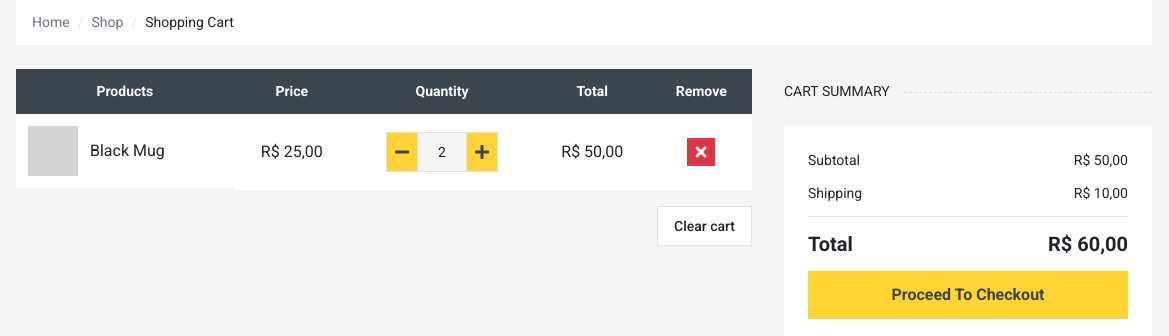
Test: Cart › increases and decreases the quantity of a line through the API
Expected: the text "Black Mug" is shown, [90, 139, 165, 163]
Click the button named "Increase quantity". click: click(482, 152)
box: [466, 132, 498, 172]
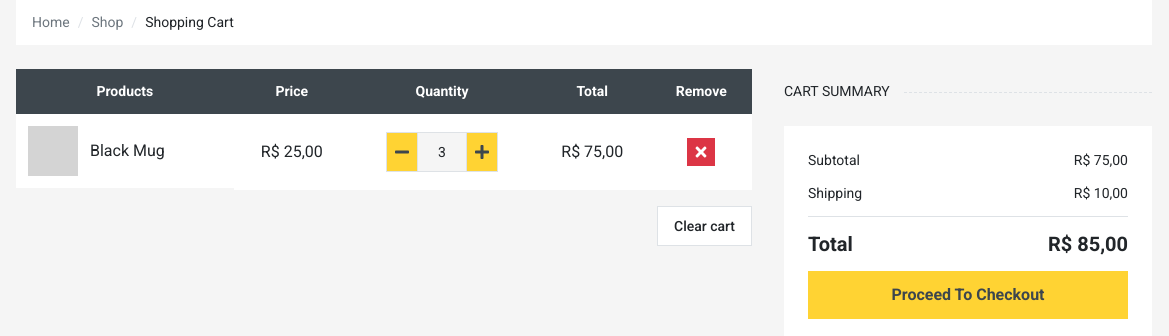
Now the text "R$ 75,00" is shown, box [534, 114, 650, 192]
Click the button named "Decrease quantity". click: click(402, 152)
box: [386, 132, 418, 172]
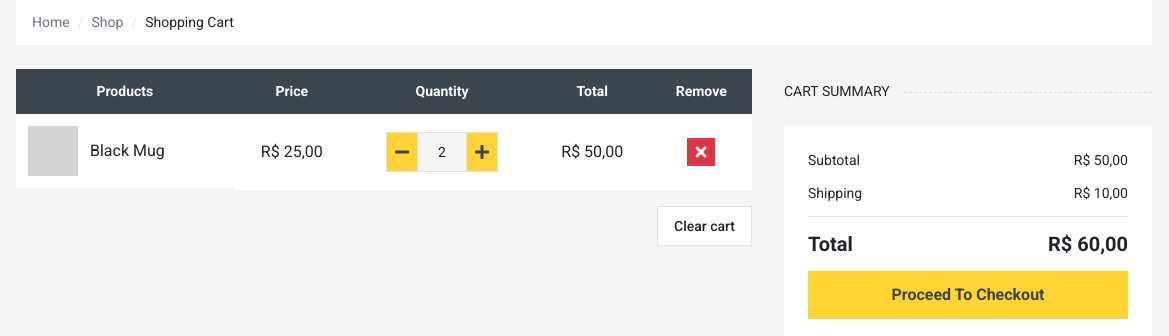
Now the text "R$ 50,00" is shown, box [534, 114, 650, 192]
